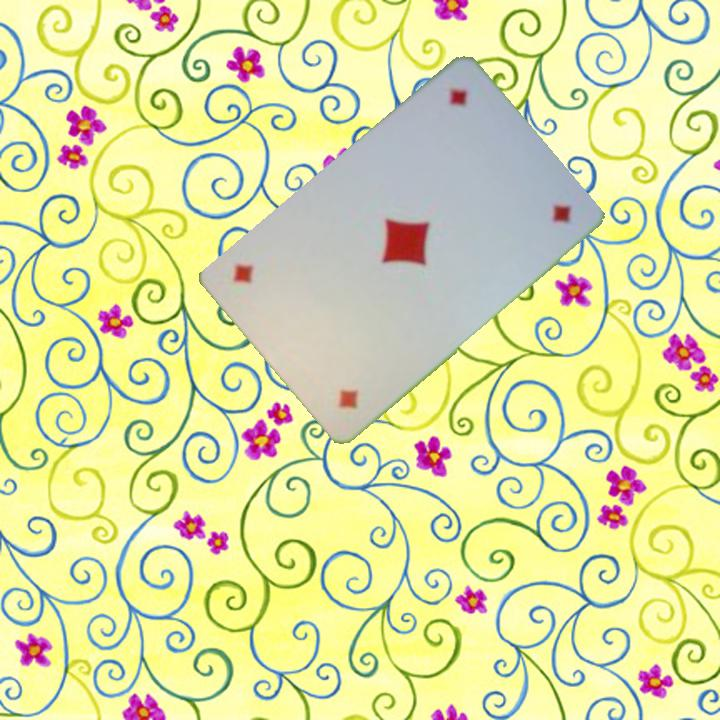d_a.png: (399, 72, 527, 202), (279, 296, 407, 425)
